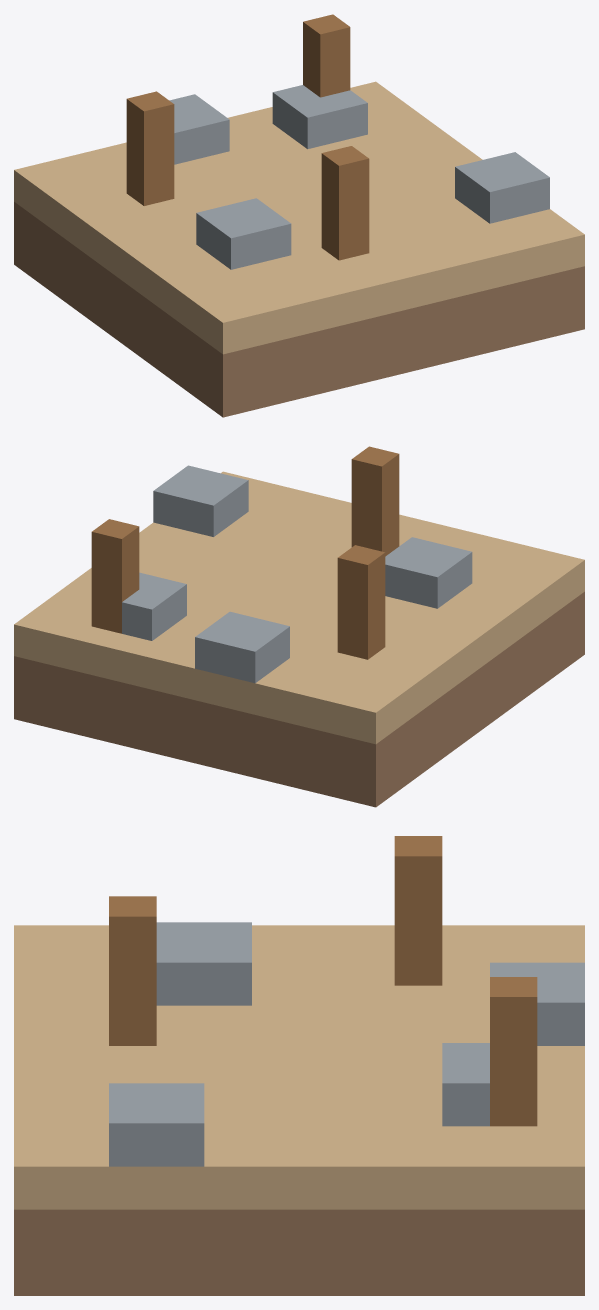
Rendered from barren.glb.
The picture shows the model from 3 angles, top to bottom: view 1: azimuth 30°, elevation 25°; view 2: azimuth 150°, elevation 25°; view 3: azimuth 270°, elevation 25°; orthographic projection. The views are drawn at different scales.
Visible parts, largest first — view 1: VX_barren; view 2: VX_barren; view 3: VX_barren.
Part boxes in pixels (<box>): VX_barren: <box>14,14,584,417</box>; VX_barren: <box>14,446,584,807</box>; VX_barren: <box>14,836,584,1295</box>.
Bounding box in the file's own units: 3.24 × 1.62 × 3.24.
